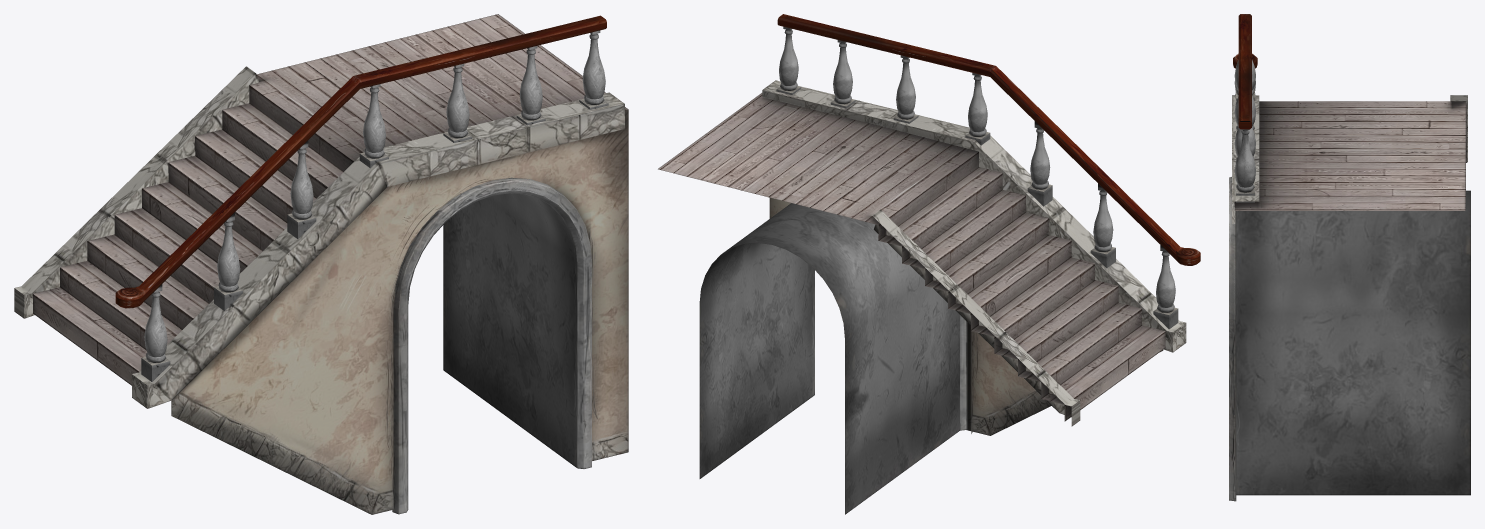
File: higerStairs.fbx
3 views of the same model, side by side, from view 1: azimuth 30°, elevation 25°; view 2: azimuth 150°, elevation 25°; view 3: azimuth 270°, elevation 25° (orthographic). The views are drawn at different scales.
Parts seen in each view (by area): view 1: polySurface274; view 2: polySurface274; view 3: polySurface274.
Part boxes in pixels (x1=…): polySurface274: x1=14, y1=14, x2=628, y2=514; polySurface274: x1=658, y1=14, x2=1200, y2=514; polySurface274: x1=1229, y1=14, x2=1470, y2=501.
Bounding box in the file's own units: 519 × 430 × 243.
